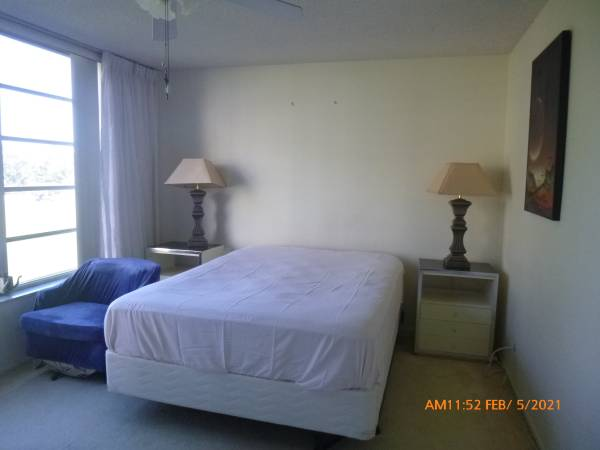bed: (104, 245, 404, 439)
lamp: (425, 161, 501, 272), (164, 157, 223, 247)
night stand: (415, 260, 499, 365)
